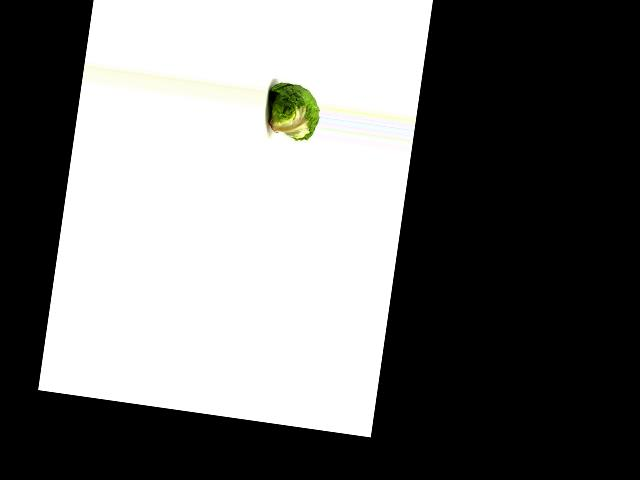lettuce: (260, 79, 323, 144)
